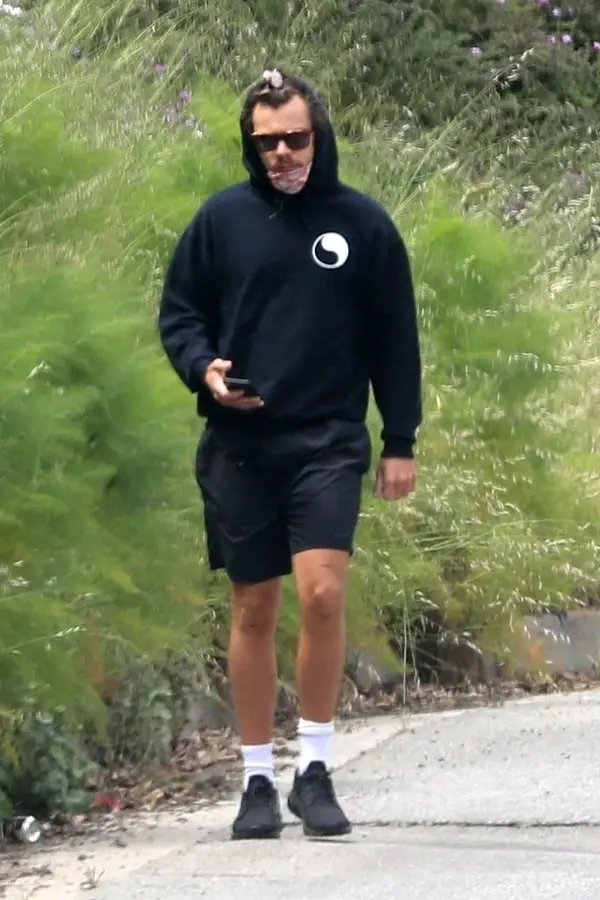mask_weared_incorrect: (236, 89, 324, 194)
